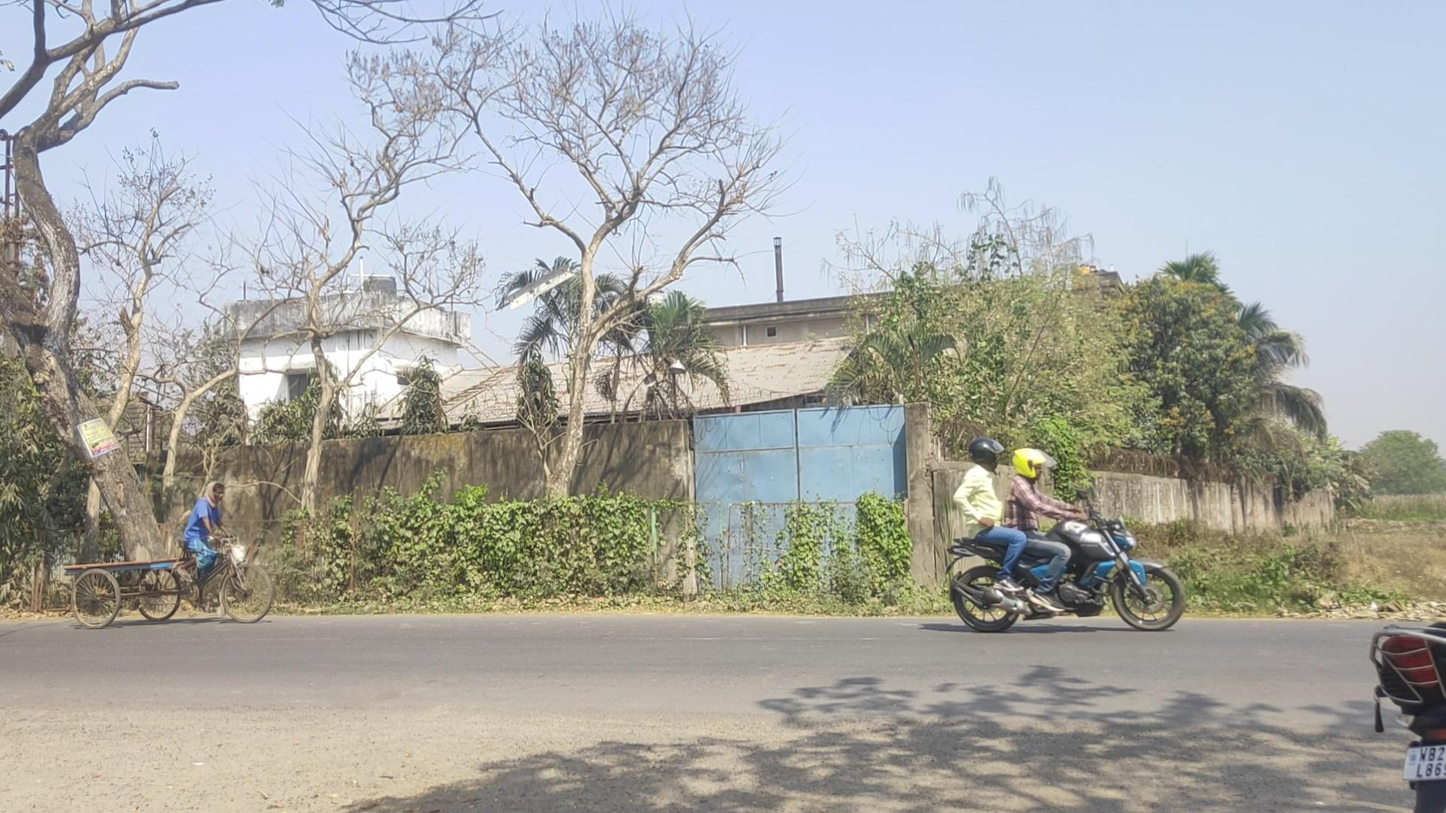bike: (944, 437, 1186, 632)
